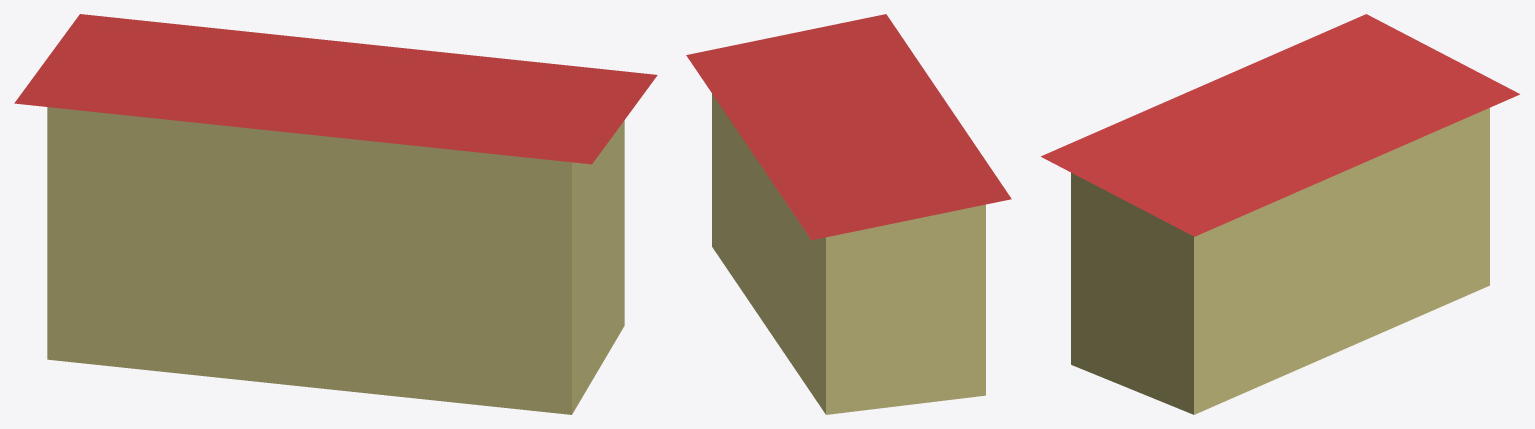
The picture shows the model from 3 angles, left to right: view 1: azimuth 30°, elevation 25°; view 2: azimuth 150°, elevation 25°; view 3: azimuth 270°, elevation 25°; orthographic projection. The views are drawn at different scales.
Size of the model in its own units: 11.24 by 11.1 by 5.31.
